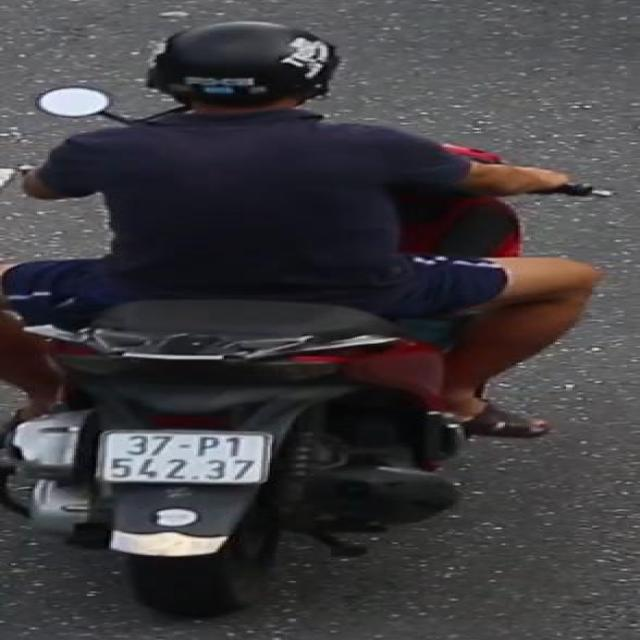LP: (91, 425, 276, 487)
helmet: (137, 16, 346, 135)
